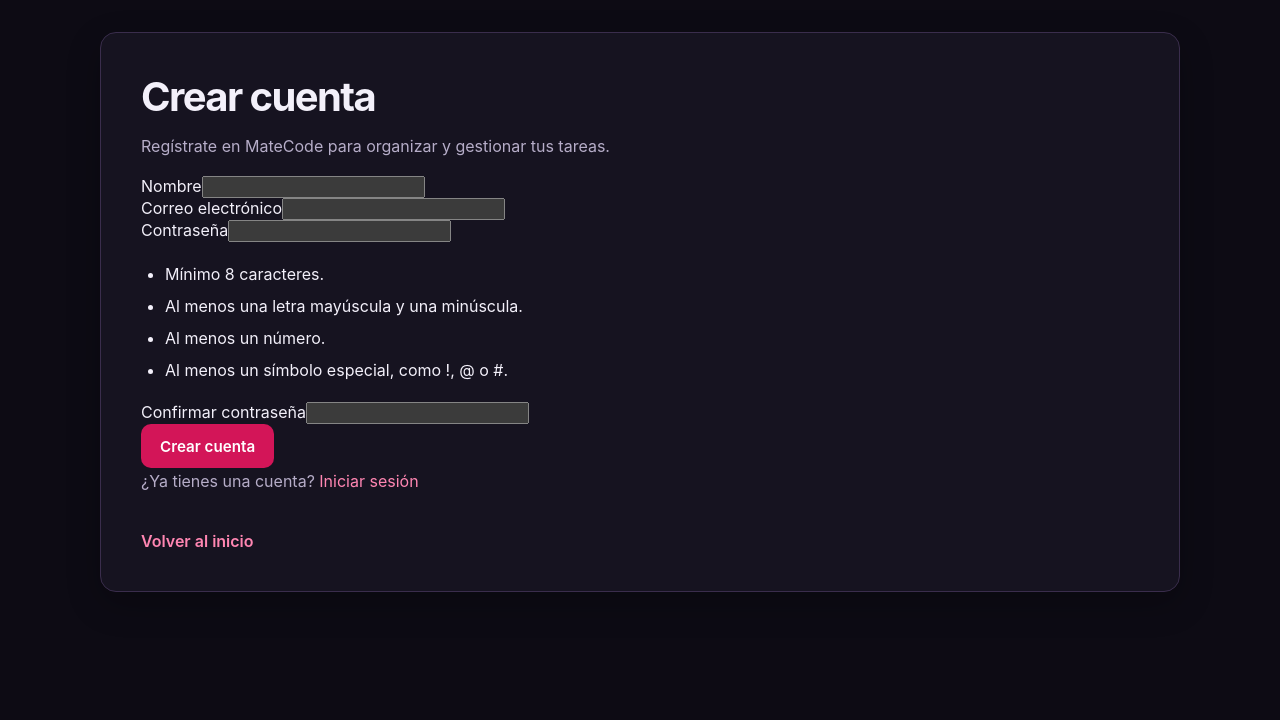
Test: RegisterPage › rechaza contraseñas que no coinciden
The width and height of the screenshot is (1280, 720).
Type "Ana Pérez" into the field labelled "Nombre" at (313, 187), box [202, 176, 424, 198]
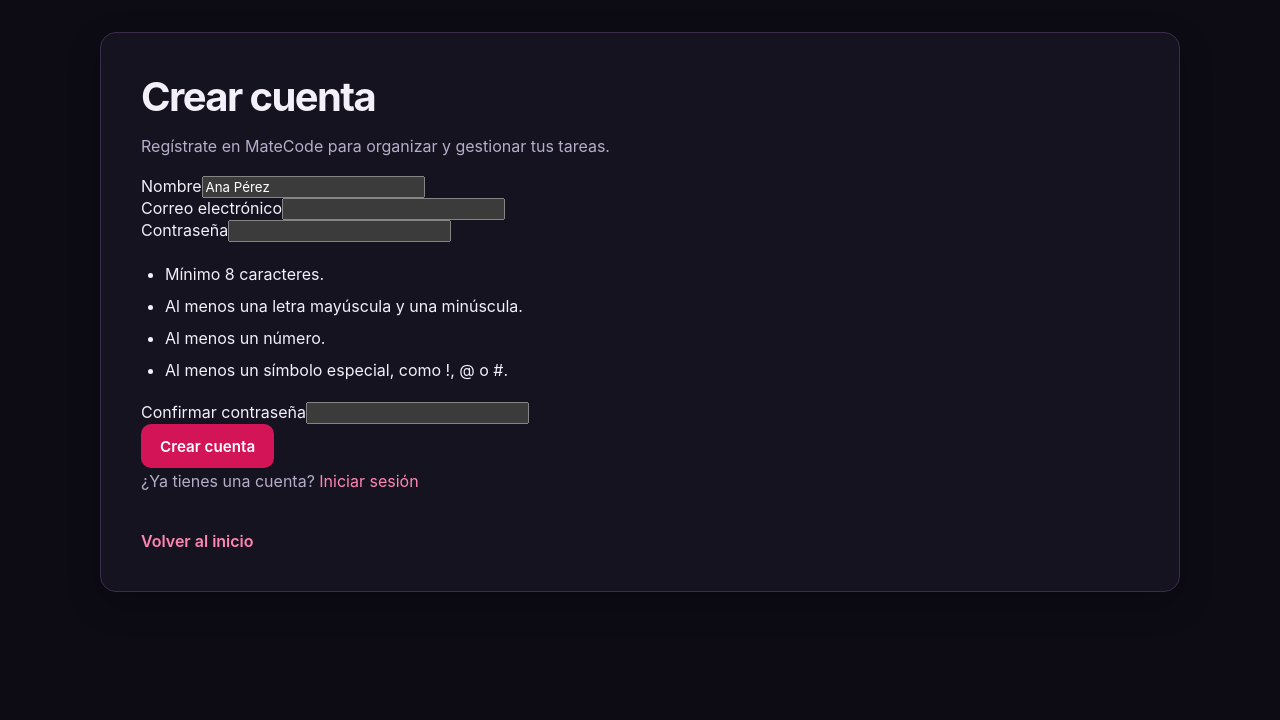
Type "ana@example.com" into the field labelled "Correo electrónico" at (394, 209), box [282, 198, 505, 220]
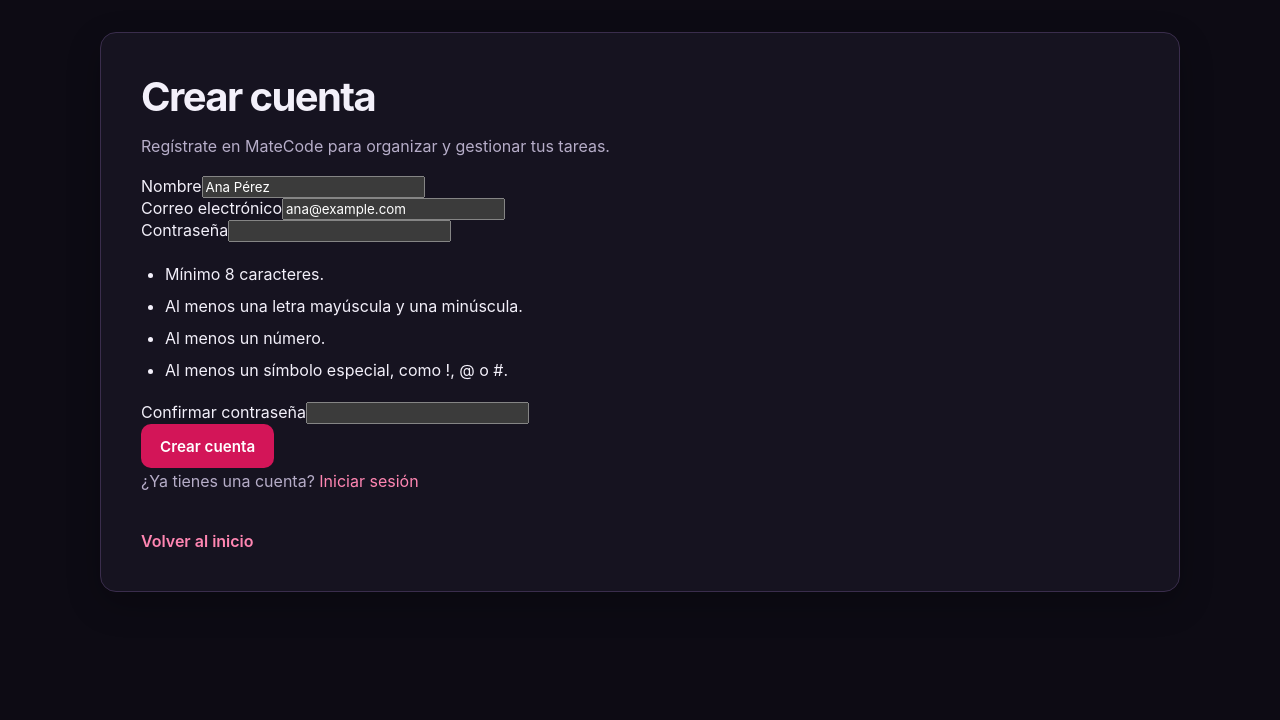
Type "Password123!" into the password field labelled "Contraseña" at (340, 231), box [228, 220, 451, 242]
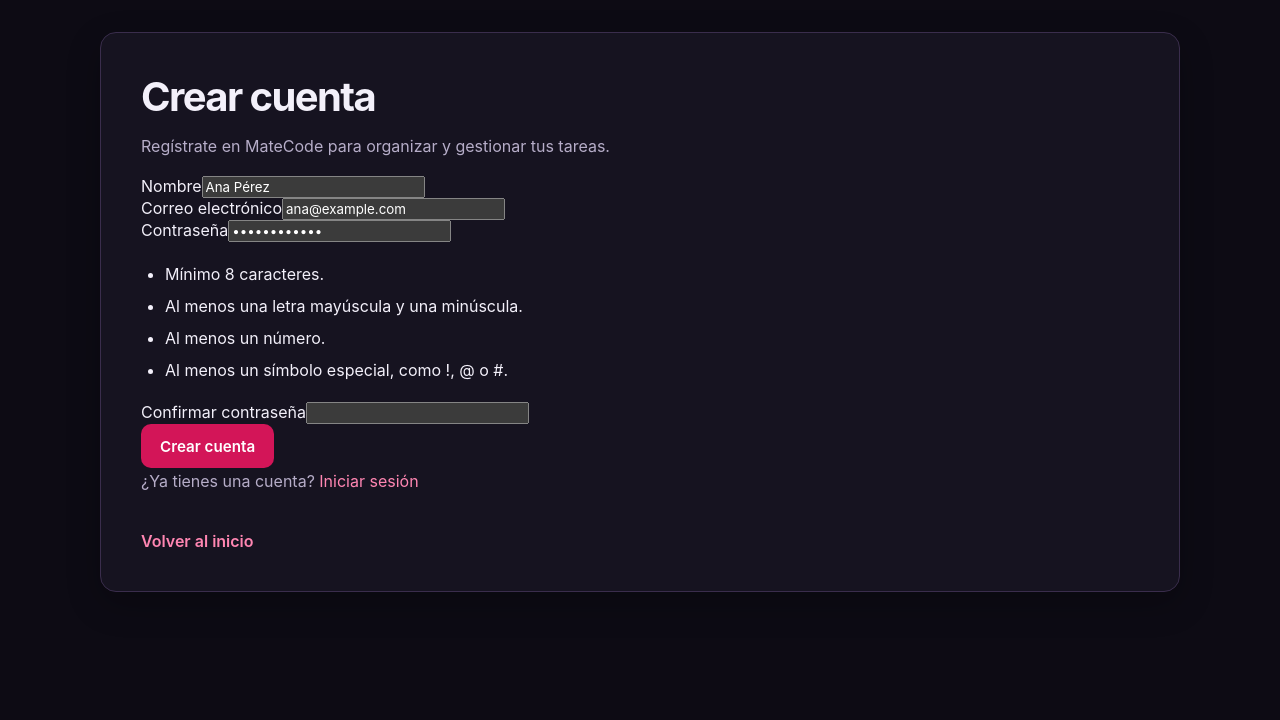
Type "Password123!" into the password field labelled "Confirmar contraseña" at (418, 413), box [306, 402, 529, 424]
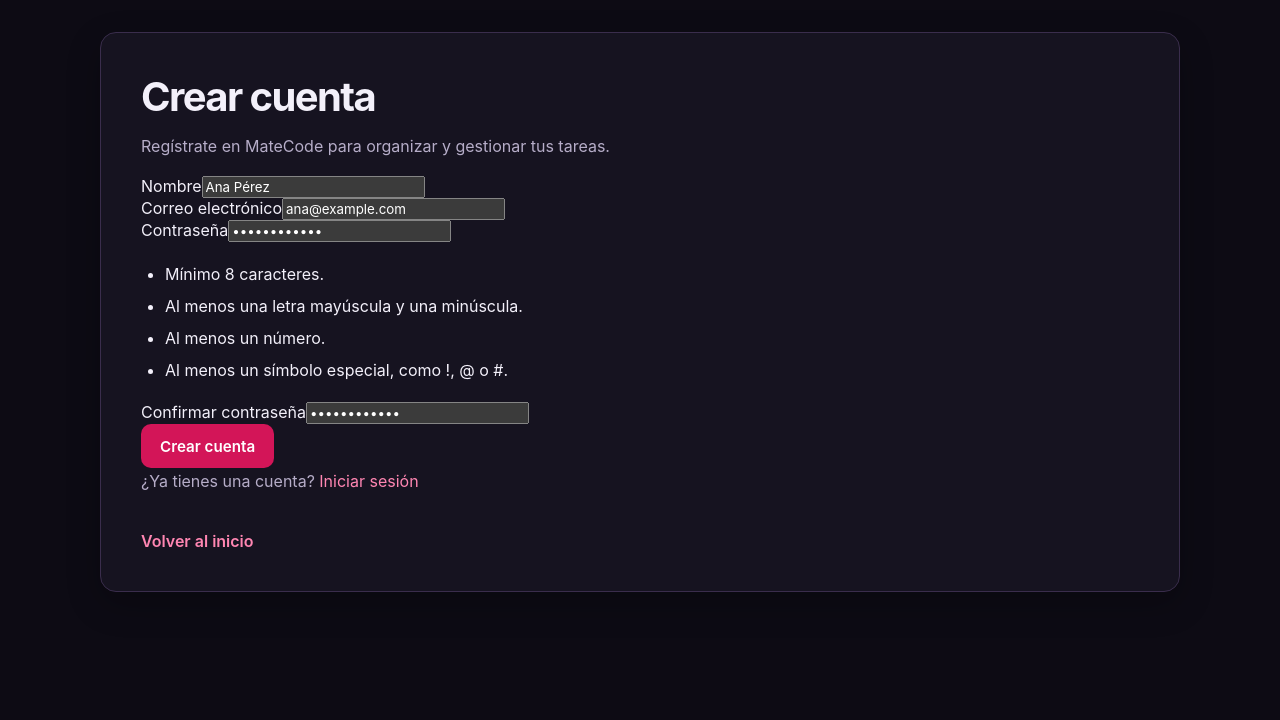
Type "Different123!" into the password field labelled "Confirmar contraseña" at (418, 413), box [306, 402, 529, 424]
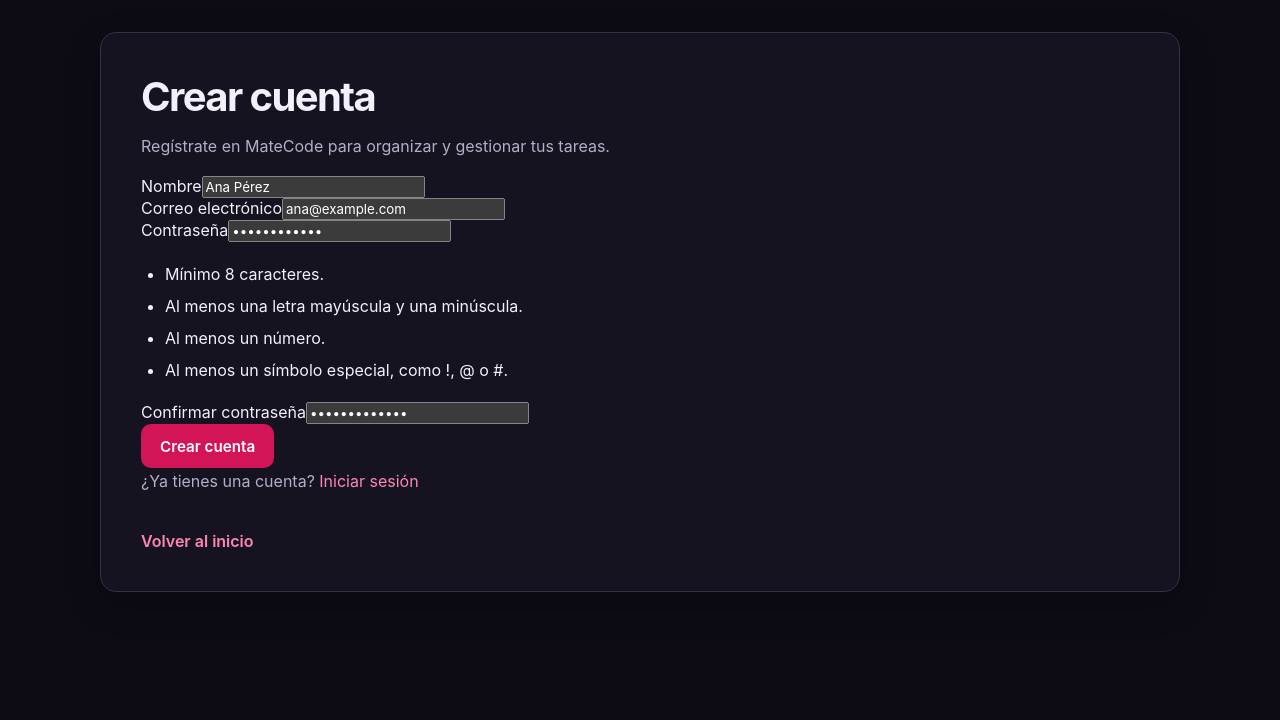
Click the button "Crear cuenta" at (208, 446), box [141, 424, 274, 468]
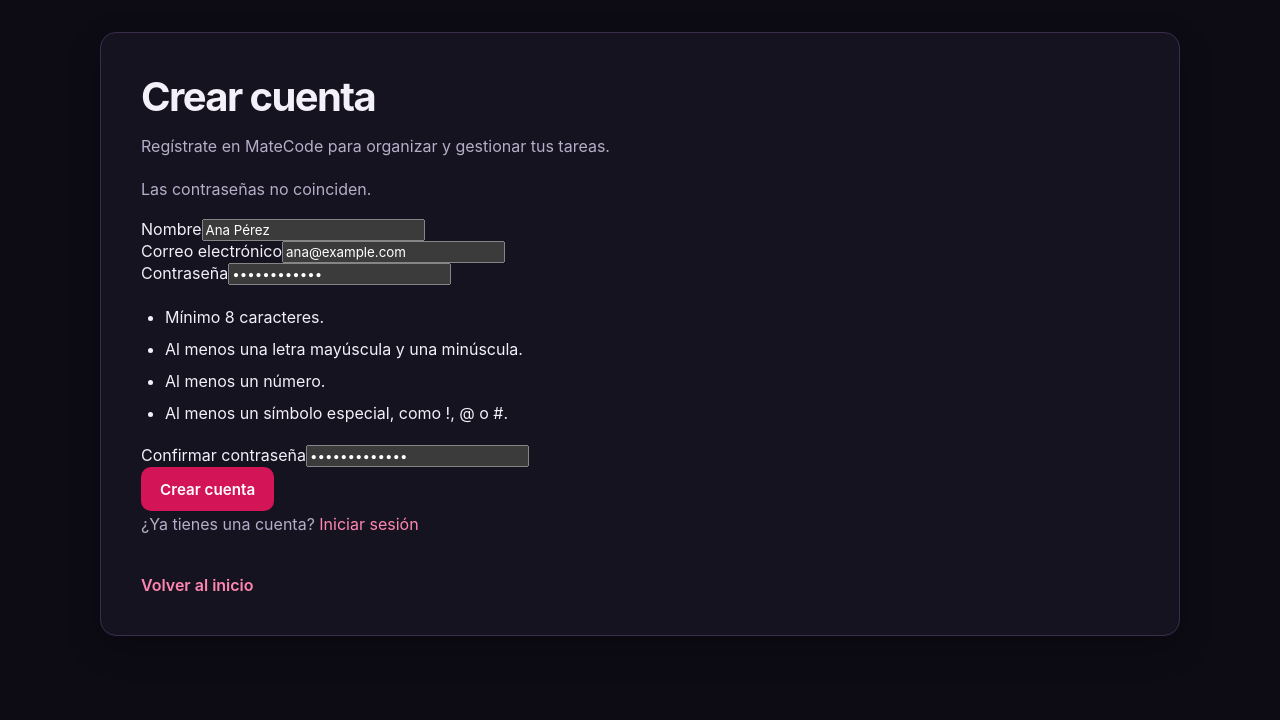
Expected: the message reads "Las contraseñas no coinciden.", [141, 179, 371, 199]
